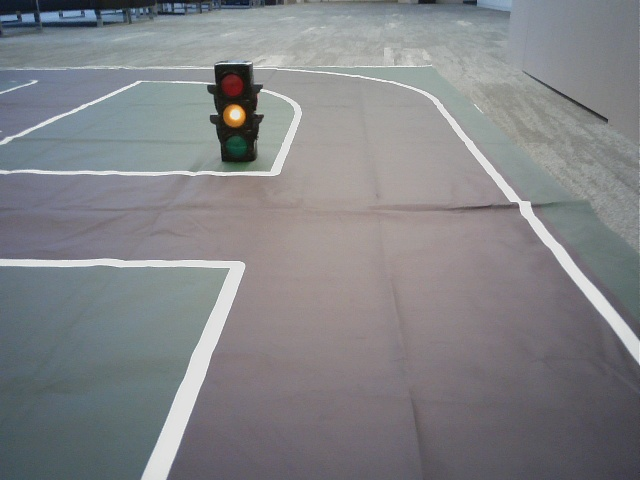yellow: (214, 67, 252, 161)
